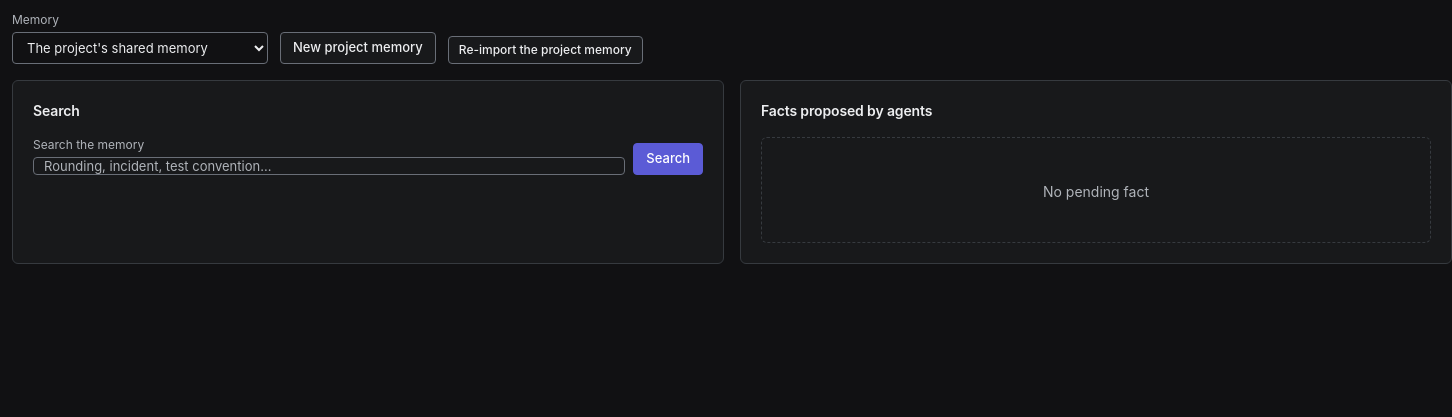
Test: the project memory's re-import › keeps the confirmation open and says the refusal
What coordinates should you click on to do the following:
click the button "Re-import the project memory"
I would click on:
 (545, 50)
Its box is [448,36,643,64].
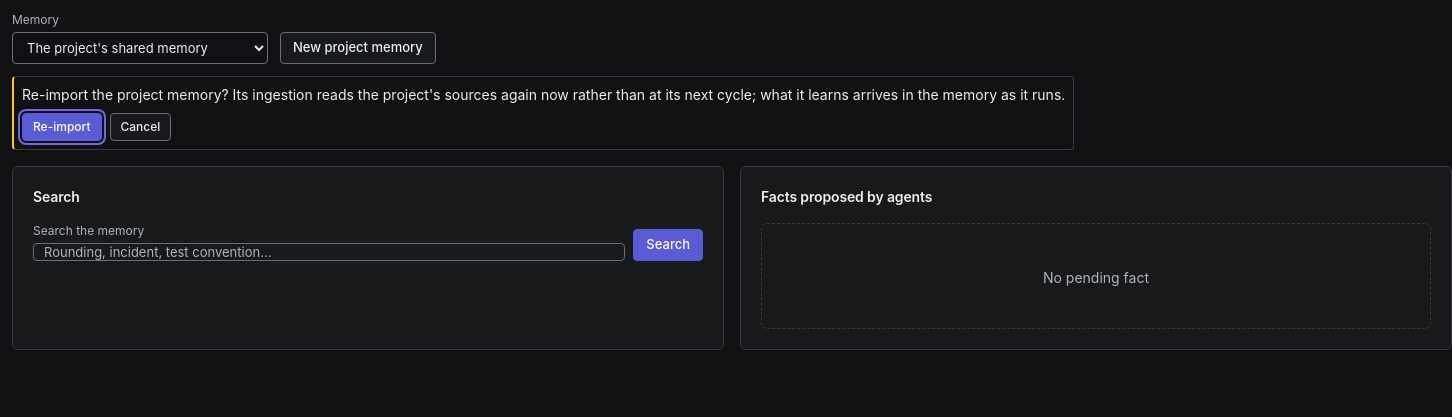
What coordinates should you click on to do the following:
click the button "Re-import"
I would click on:
 (62, 127)
Its box is [22,113,102,141].
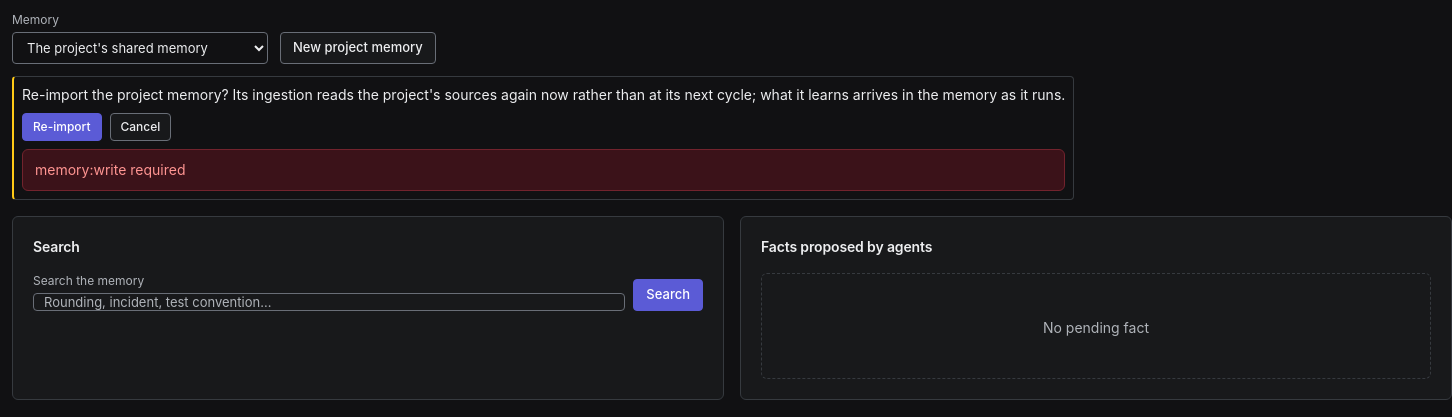
Check: the text "memory:write required" is shown, box [35,161,186,178]
